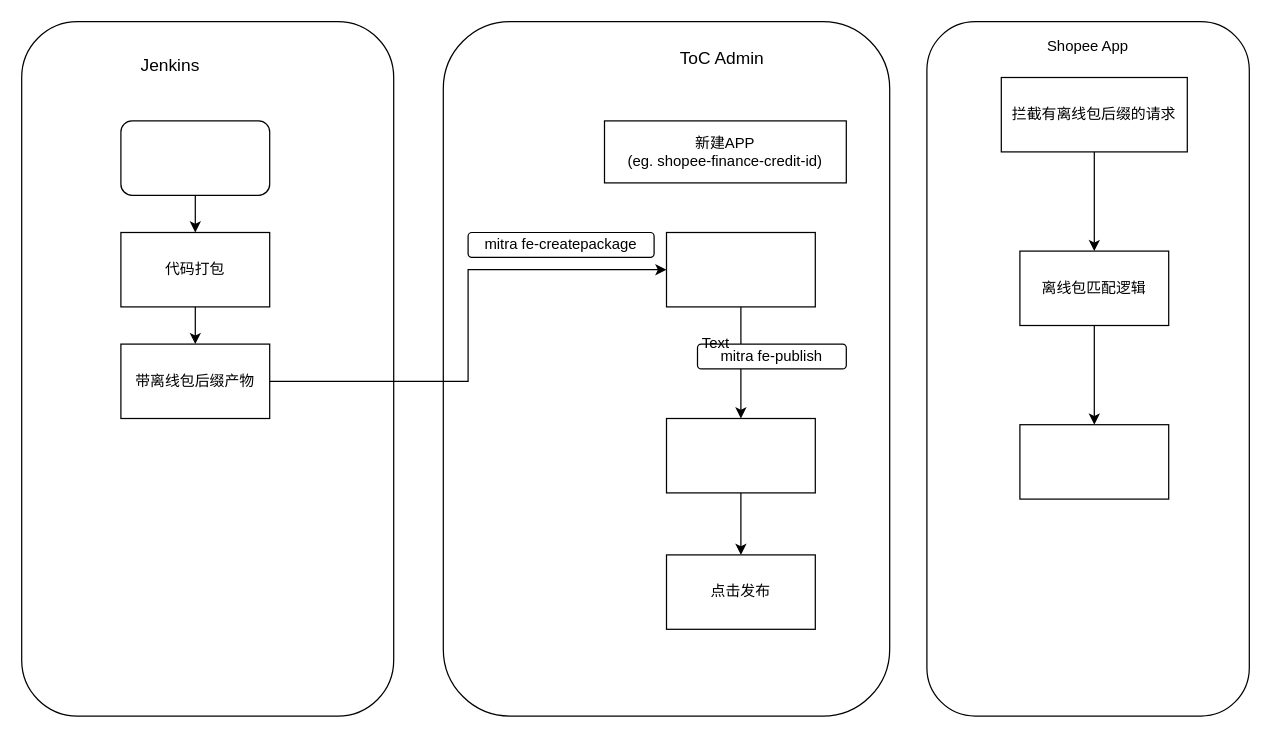
Image size: 1271x738. Some labels were removed from this diagram. The shapes that lost their labels are listed below. From the top down, each one's centre as x and y in pixels, then its label:
At point 195,157: "选择版本和发布类型".
At point 740,269: "在app下新建一个bundle".
At point 740,455: "资源上传到bundle".
At point 1094,461: "返回线上或离线资源".
